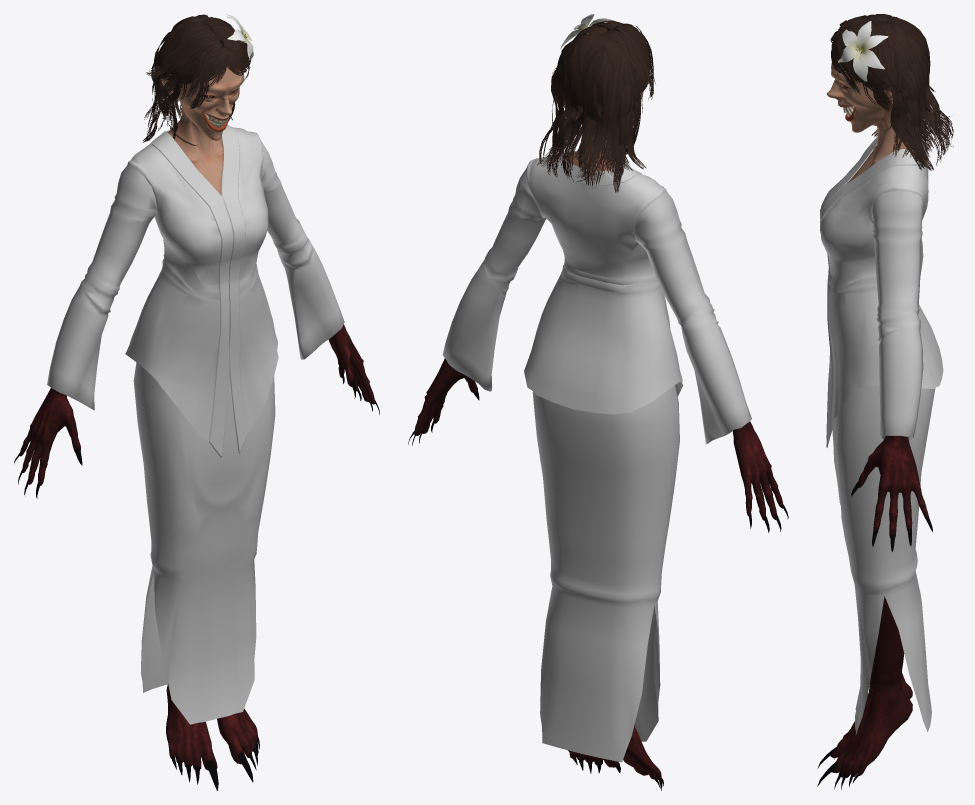
Rendered from rahang_head1.FBX.
The picture shows the model from 3 angles, left to right: view 1: azimuth 30°, elevation 25°; view 2: azimuth 150°, elevation 25°; view 3: azimuth 270°, elevation 25°; orthographic projection. The views are drawn at different scales.
Visible parts, largest first — view 1: rahang_body, rahang_head1; view 2: rahang_body, rahang_head1; view 3: rahang_body, rahang_head1.
Part boxes in pixels (box(x1,y1,x2,y2)): rahang_body: box(14, 125, 379, 790); rahang_head1: box(143, 14, 253, 195); rahang_body: box(408, 150, 788, 790); rahang_head1: box(537, 14, 655, 192); rahang_body: box(817, 136, 943, 789); rahang_head1: box(826, 14, 953, 183).
Size of the model in its own units: 89.02 by 183 by 31.01.
